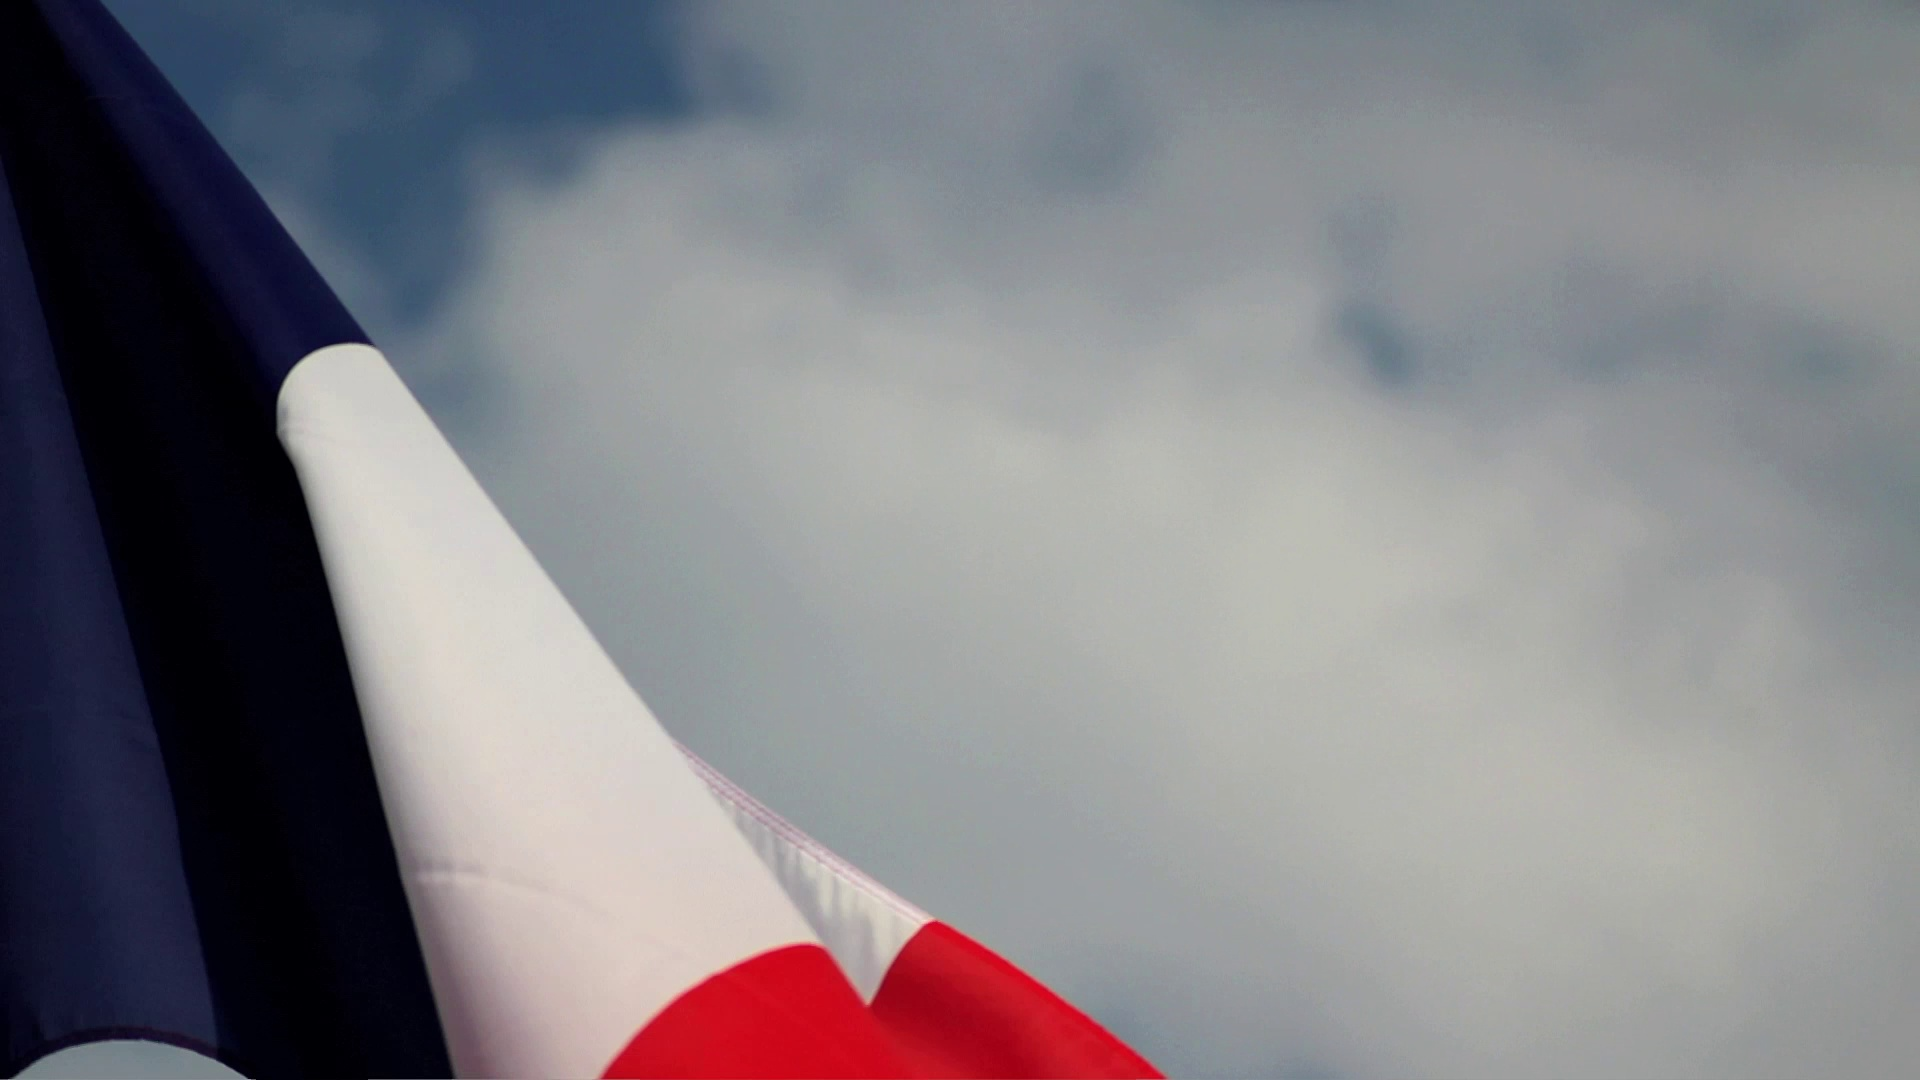French Flag: (1, 1, 1156, 1080)
